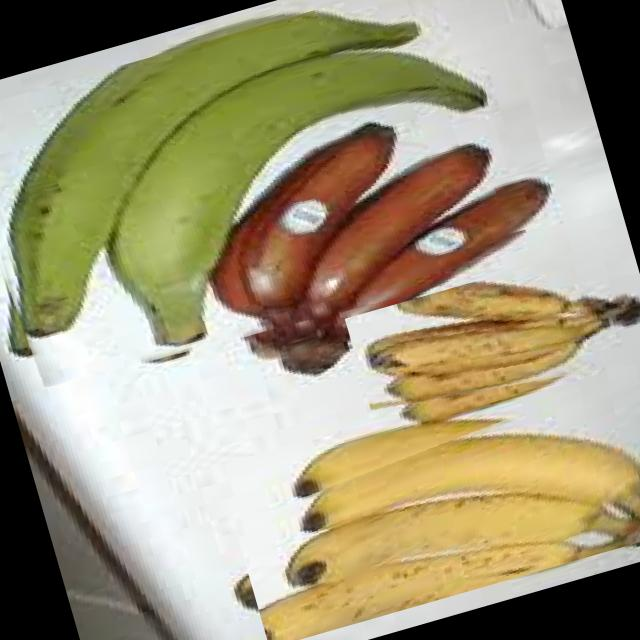Organic: (0, 0, 533, 408), (221, 358, 640, 640), (343, 236, 640, 438), (490, 162, 566, 234)
